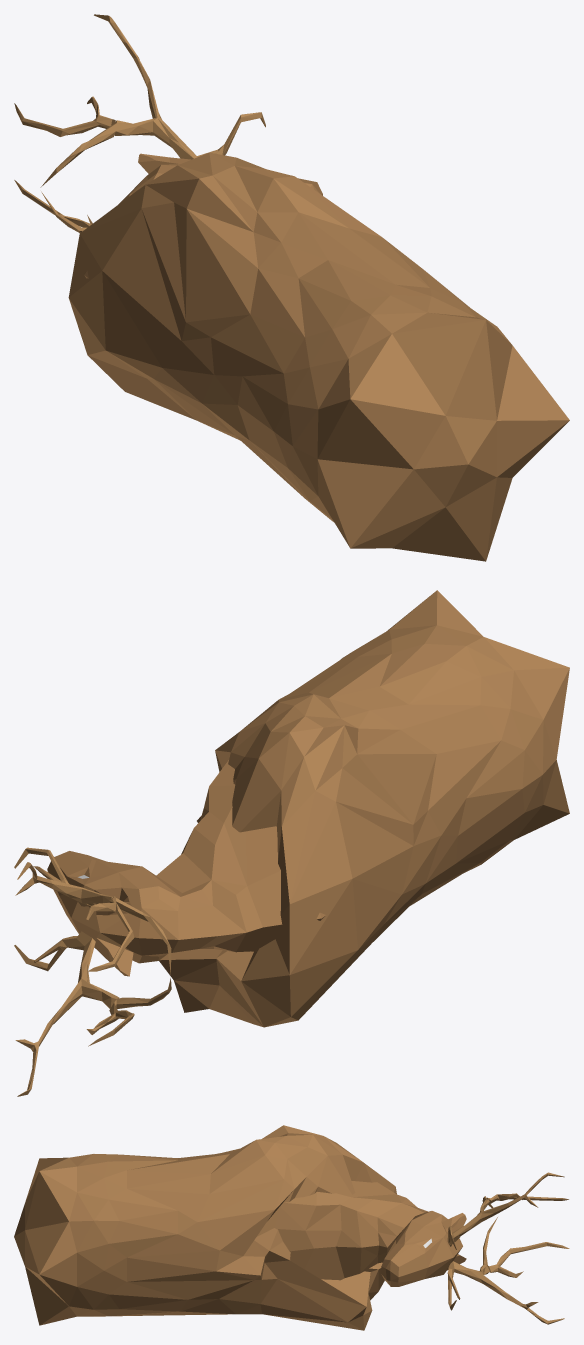
File: Stag Totem.fbx
3 renders of one model, top to bottom at view 1: azimuth 30°, elevation 25°; view 2: azimuth 150°, elevation 25°; view 3: azimuth 270°, elevation 25°, orthographic. The views are drawn at different scales.
Parts seen in each view (by area): view 1: Icosphere.006; view 2: Icosphere.006; view 3: Icosphere.006.
Boxes of the visible parts, <box> form: Icosphere.006: <box>14,14,569,561</box>; Icosphere.006: <box>14,590,569,1096</box>; Icosphere.006: <box>14,1125,569,1330</box>.
Bounding box in the file's own units: 1333 × 475 × 466.
Materials: 2 (1 with a texture image).
